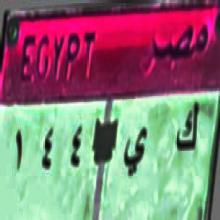1: (13, 122, 27, 178)
4: (64, 124, 88, 182), (35, 116, 57, 177)
kaaf: (171, 93, 199, 170)
yaa: (119, 117, 153, 191)
